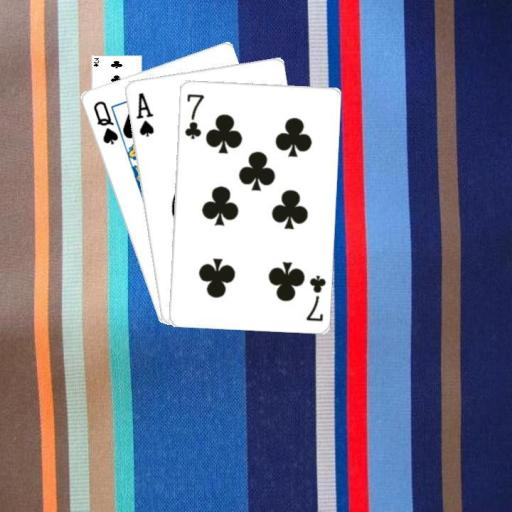7C: (182, 90, 206, 140), (303, 272, 326, 323)
AS: (132, 89, 155, 138)
QS: (90, 98, 120, 147)
